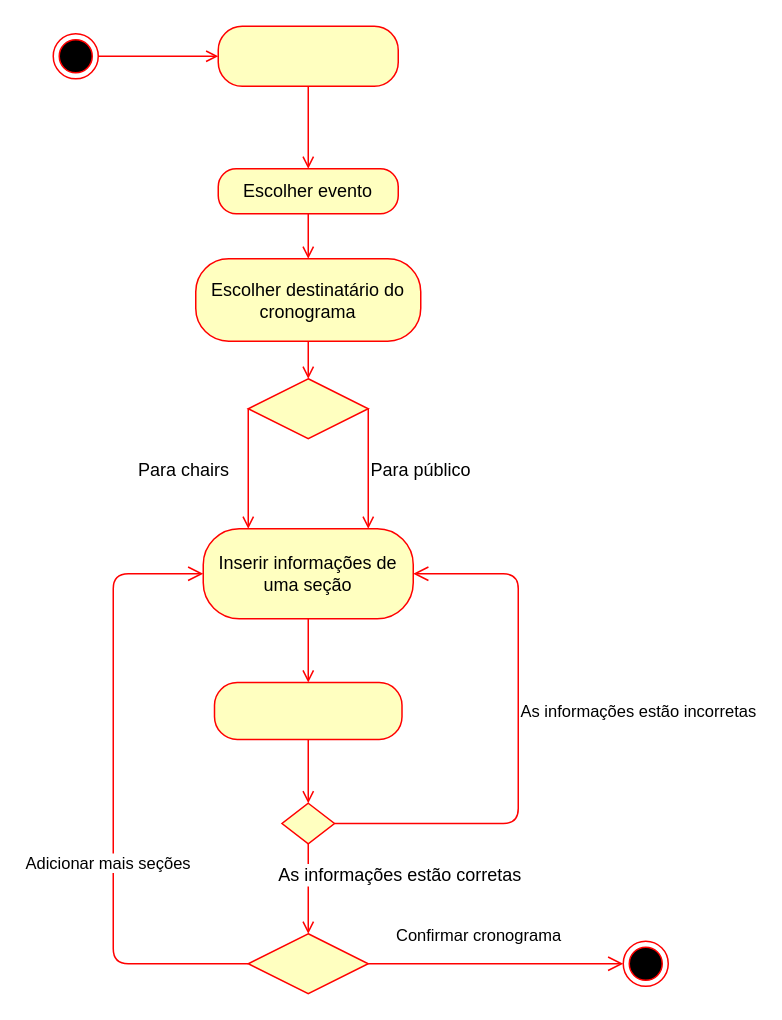
Some shapes in this 782 by 1020 pixel diagram are drawn without their labels. Here are the shapes that lost their labels. From the top down, the box of each, then its label:
(217, 25, 398, 86): Adicionar/atualizar cronograma
(213, 681, 402, 740): Confirmar
